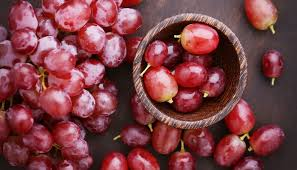Green grapes: (2, 5, 120, 170), (116, 107, 280, 170), (142, 24, 242, 115)
